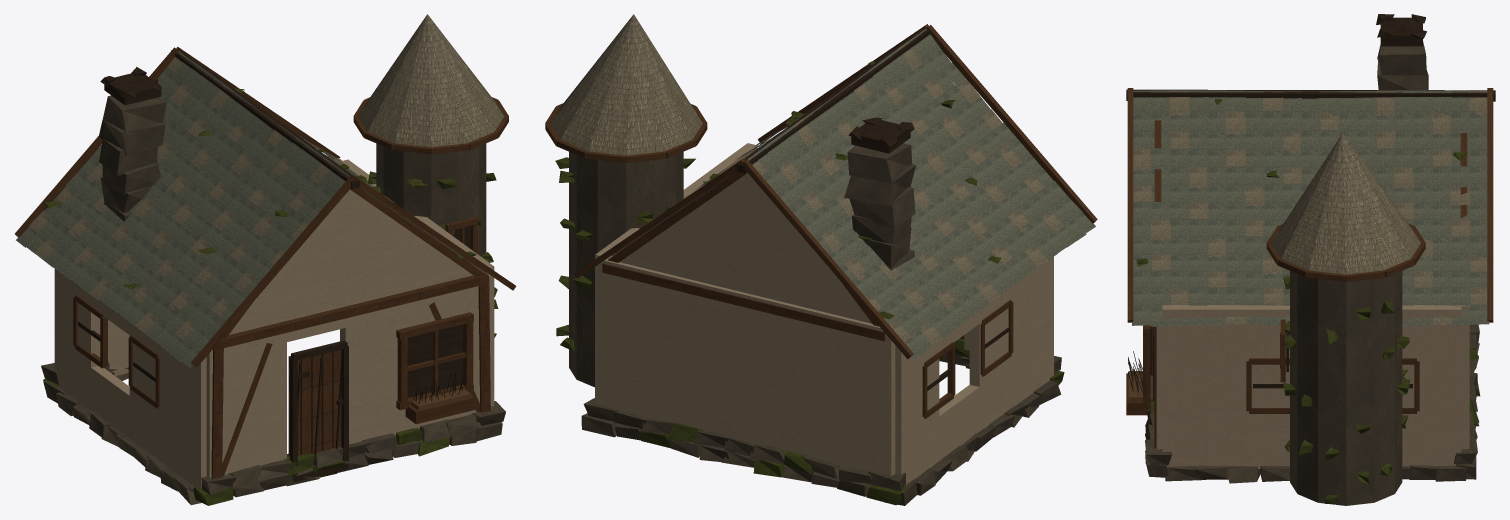
File: hermit_cottage_v2.glb
3 views of the same model, side by side, from view 1: azimuth 30°, elevation 25°; view 2: azimuth 150°, elevation 25°; view 3: azimuth 270°, elevation 25° (orthographic). The views are drawn at different scales.
Visible parts, largest first — view 1: lime, slate, oak, foundation, slate_dry, charred, lichen, earth; view 2: lime, slate, foundation, slate_dry, oak, lichen, charred; view 3: slate, foundation, lime, slate_dry, oak, charred, lichen, earth.
Boxes of the visible parts, x1=… form: lime: x1=54, y1=158, x2=494, y2=489; slate: x1=16, y1=57, x2=464, y2=368; oak: x1=15, y1=47, x2=516, y2=478; foundation: x1=41, y1=95, x2=505, y2=504; slate_dry: x1=29, y1=14, x2=504, y2=340; charred: x1=78, y1=50, x2=470, y2=481; lichen: x1=43, y1=88, x2=498, y2=505; earth: x1=411, y1=388, x2=470, y2=410; lime: x1=595, y1=99, x2=1053, y2=489; slate: x1=647, y1=28, x2=1095, y2=359; foundation: x1=569, y1=143, x2=1061, y2=505; slate_dry: x1=550, y1=14, x2=1063, y2=344; oak: x1=545, y1=24, x2=1097, y2=418; lichen: x1=555, y1=61, x2=1064, y2=505; charred: x1=737, y1=28, x2=1008, y2=390; slate: x1=1132, y1=90, x2=1489, y2=326; foundation: x1=1145, y1=41, x2=1479, y2=505; lime: x1=1156, y1=305, x2=1469, y2=468; slate_dry: x1=1133, y1=90, x2=1487, y2=325; oak: x1=1126, y1=88, x2=1493, y2=448; charred: x1=1126, y1=14, x2=1495, y2=400; lichen: x1=1136, y1=99, x2=1480, y2=503; earth: x1=1128, y1=371, x2=1142, y2=401.
Size of the model in its own units: 8.31 by 6.73 by 6.3.
Materials: 8 (8 with a texture image).
